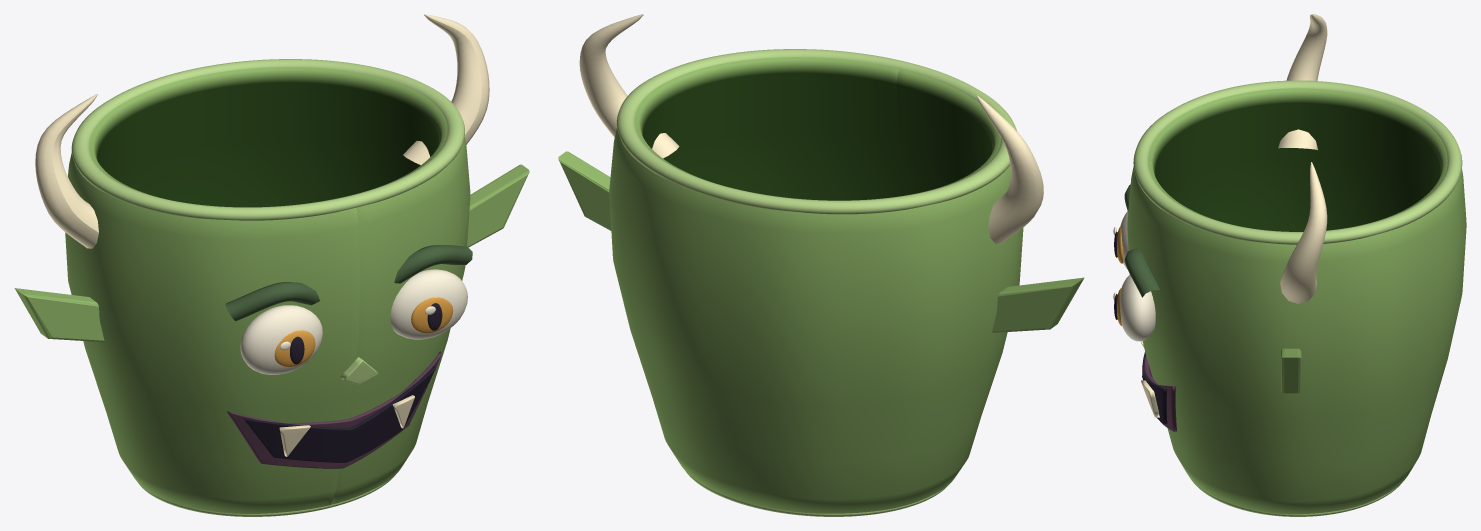
File: monster.glb
3 renders of one model, left to right at view 1: azimuth 30°, elevation 25°; view 2: azimuth 150°, elevation 25°; view 3: azimuth 270°, elevation 25°, orthographic. The views are drawn at different scales.
Visible parts, largest first — view 1: Hollow sculpted basket, Rounded opening, Curved ivory horn (×2), Raised eyeball (×2), Pointed ear (×2), Mischievous grin, Sculpted eyebrow (×2), Sculpted grin border, Amber iris (×2), Foot ring, Small goblin nose; view 2: Hollow sculpted basket, Rounded opening, Curved ivory horn (×2), Pointed ear (×2), Foot ring; view 3: Hollow sculpted basket, Rounded opening, Curved ivory horn (×2), Raised eyeball, Pointed ear, Sculpted eyebrow, Sculpted grin border, Foot ring, Mischievous grin.
Boxes of the visible parts, x1=… form: Hollow sculpted basket: x1=65, y1=67, x2=470, y2=513; Rounded opening: x1=71, y1=59, x2=464, y2=220; Curved ivory horn (×2): x1=35, y1=14, x2=489, y2=248; Raised eyeball (×2): x1=240, y1=269, x2=467, y2=374; Pointed ear (×2): x1=14, y1=164, x2=529, y2=342; Mischievous grin: x1=242, y1=366, x2=436, y2=462; Sculpted eyebrow (×2): x1=225, y1=245, x2=472, y2=321; Sculpted grin border: x1=226, y1=351, x2=441, y2=468; Amber iris (×2): x1=274, y1=297, x2=453, y2=366; Foot ring: x1=138, y1=475, x2=395, y2=516; Small goblin nose: x1=340, y1=357, x2=379, y2=384; Hollow sculpted basket: x1=609, y1=57, x2=1023, y2=513; Rounded opening: x1=616, y1=49, x2=1017, y2=214; Curved ivory horn (×2): x1=579, y1=14, x2=1043, y2=243; Pointed ear (×2): x1=558, y1=151, x2=1084, y2=332; Foot ring: x1=685, y1=471, x2=948, y2=516; Hollow sculpted basket: x1=1127, y1=88, x2=1466, y2=514; Rounded opening: x1=1133, y1=80, x2=1462, y2=244; Curved ivory horn (×2): x1=1278, y1=14, x2=1327, y2=303; Raised eyeball: x1=1120, y1=275, x2=1155, y2=341; Pointed ear: x1=1281, y1=348, x2=1301, y2=393; Sculpted eyebrow: x1=1124, y1=248, x2=1161, y2=297; Sculpted grin border: x1=1144, y1=355, x2=1176, y2=431; Foot ring: x1=1190, y1=478, x2=1402, y2=516; Mischievous grin: x1=1142, y1=352, x2=1167, y2=424.
Size of the model in its own units: 0.2687 by 0.2066 by 0.1748.
